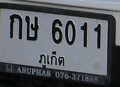txt01: (8, 13, 23, 40)
txt34: (24, 14, 40, 42)
